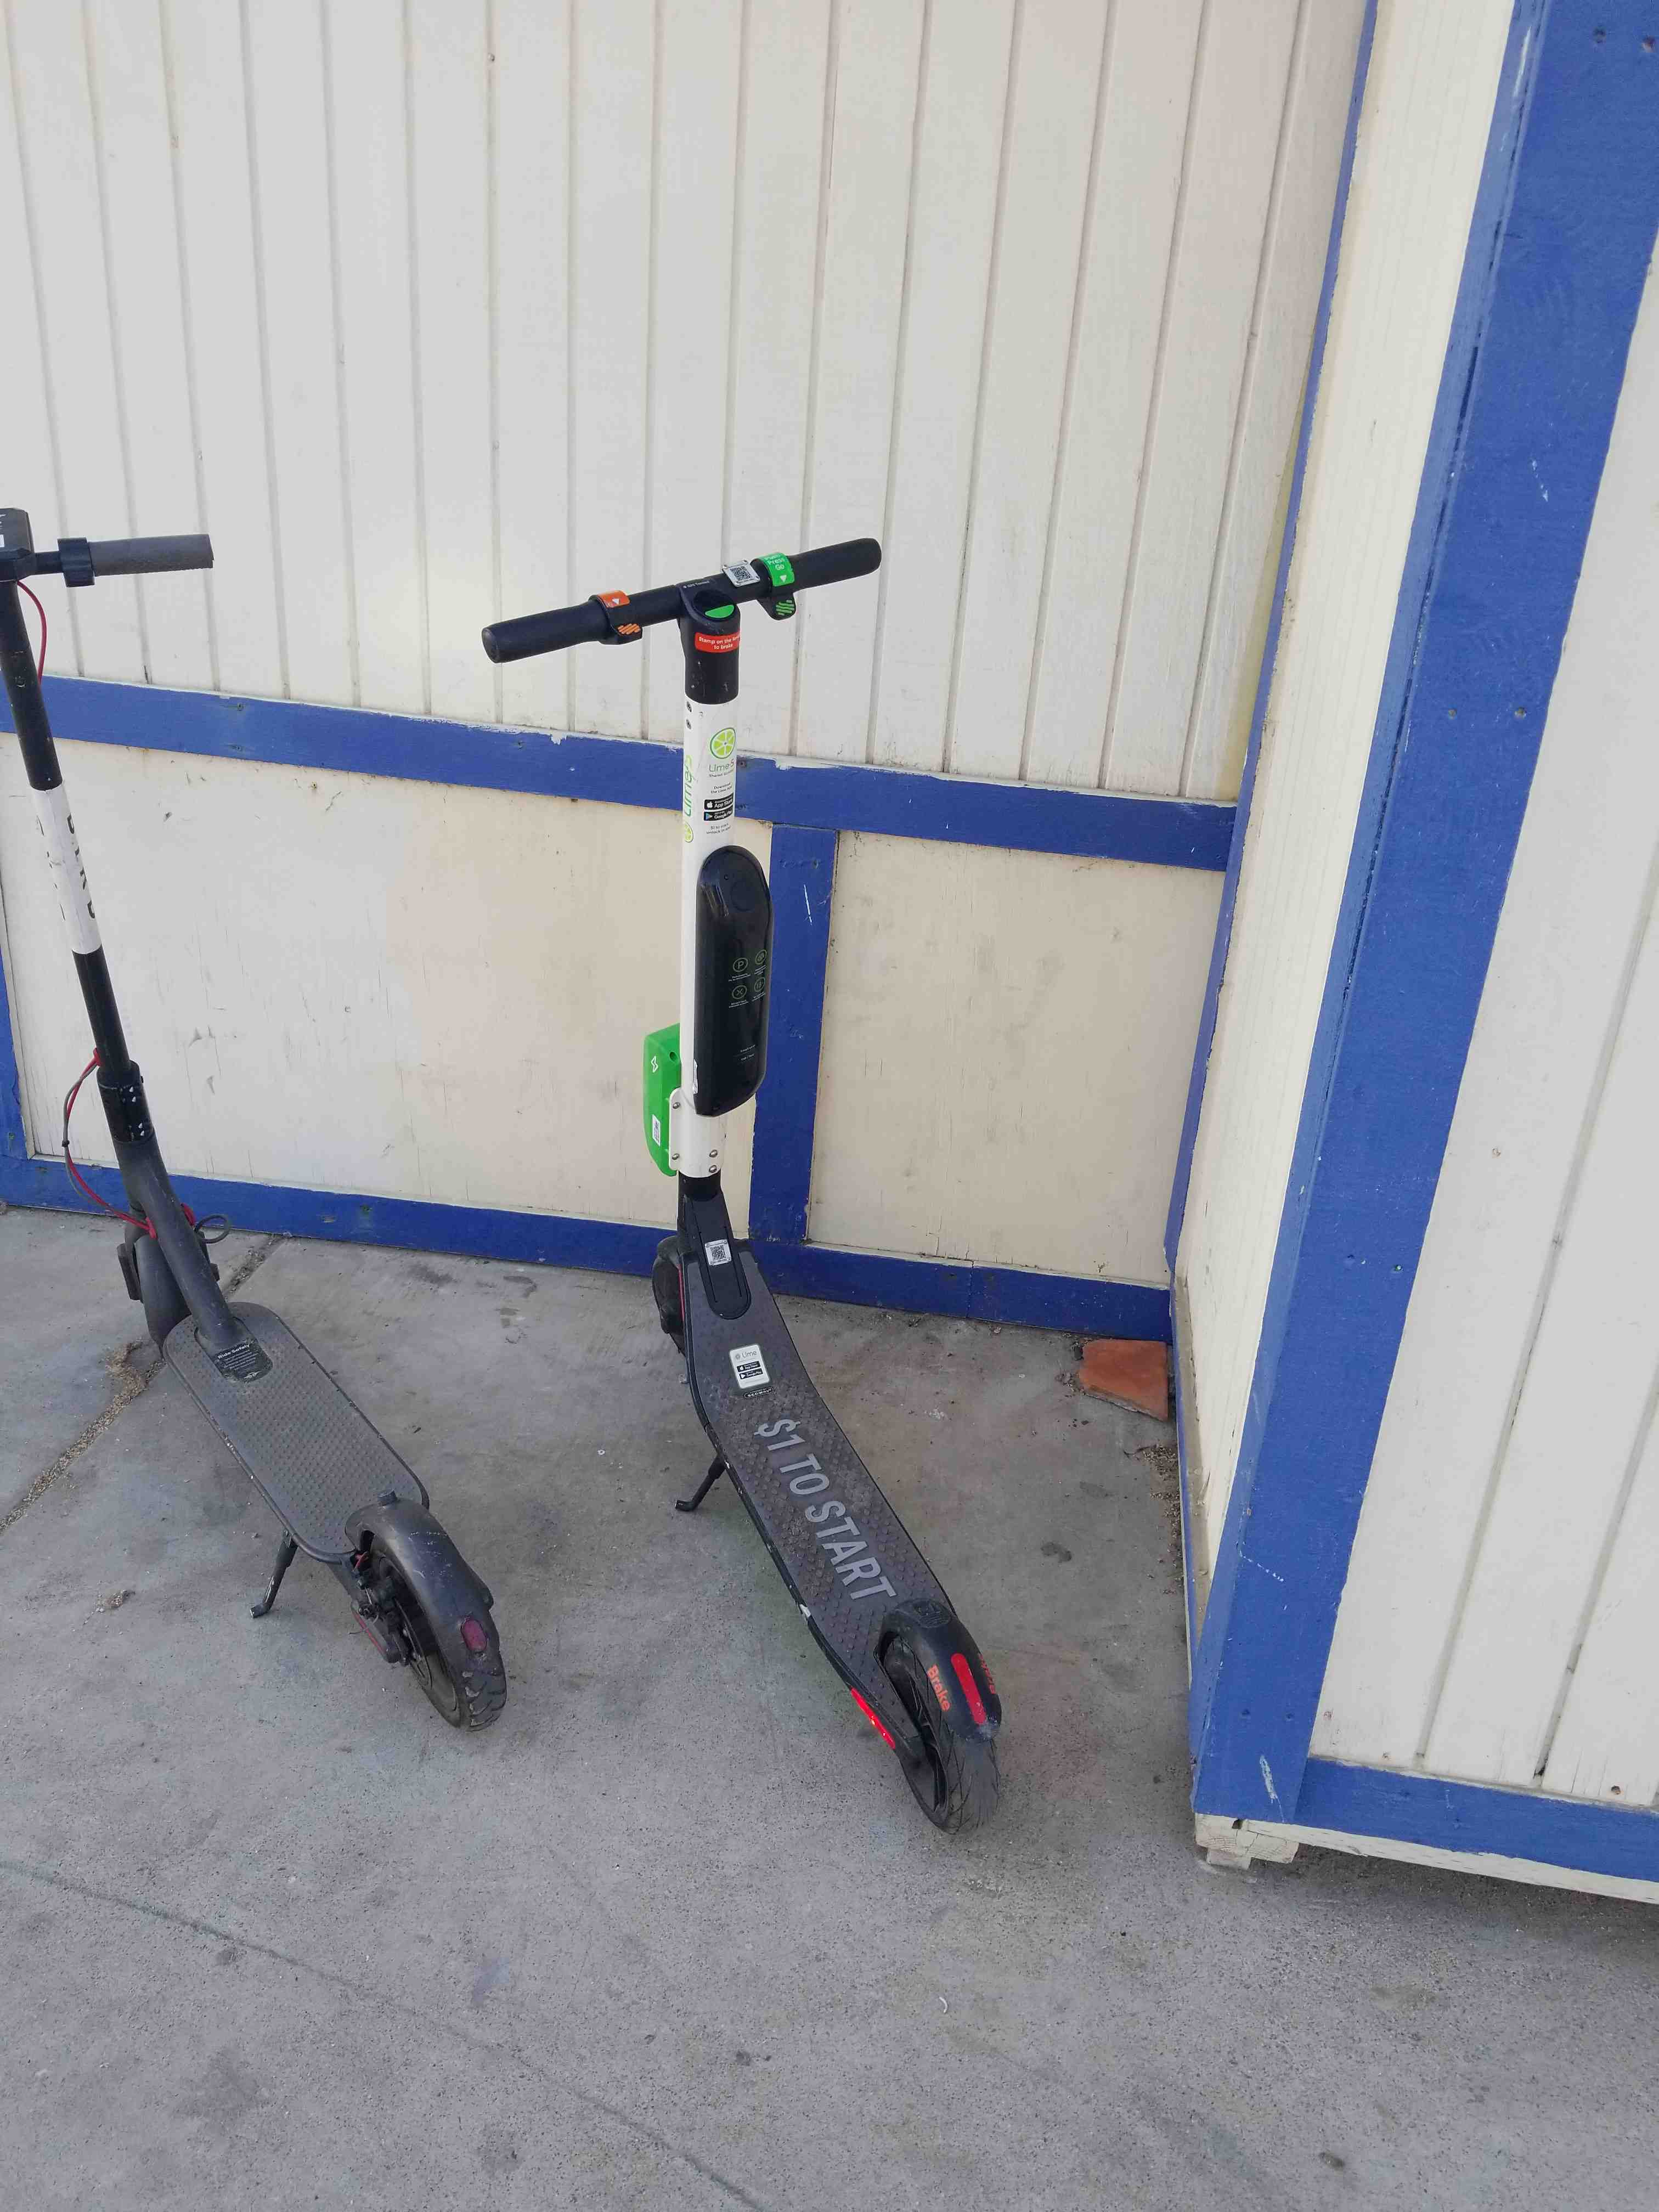scooter: (464, 521, 1060, 1858)
